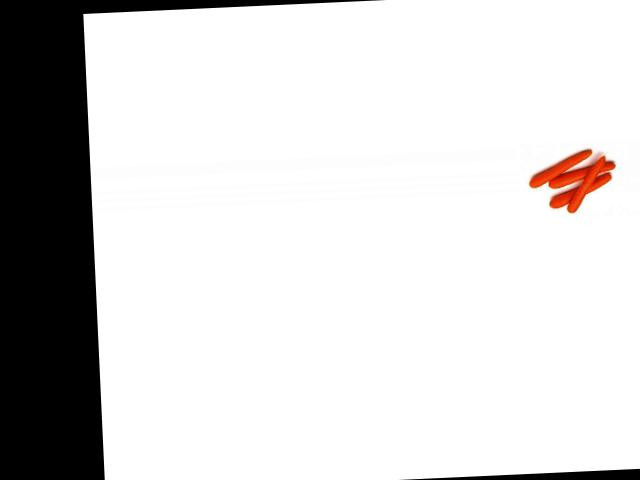carrot: (544, 174, 613, 211)
